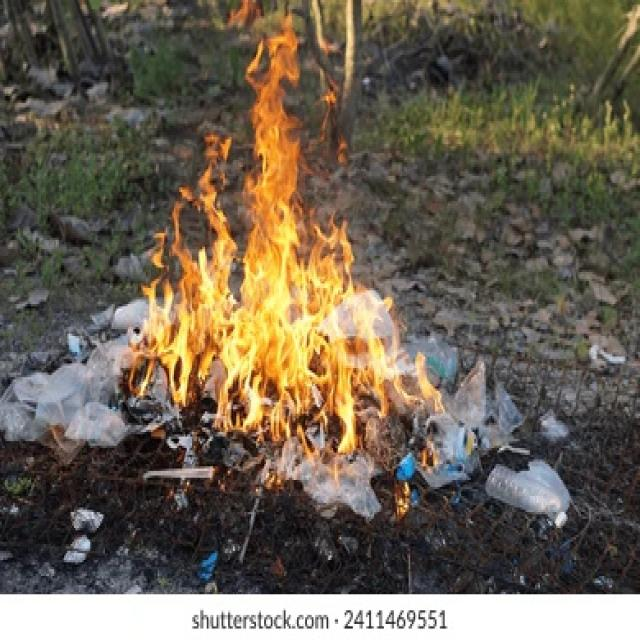fire: (215, 304, 358, 456), (242, 36, 308, 304), (357, 337, 443, 414), (307, 207, 356, 305), (193, 212, 238, 306), (141, 233, 192, 310), (194, 133, 233, 211), (161, 310, 192, 407), (129, 309, 161, 398), (223, 0, 265, 33)
